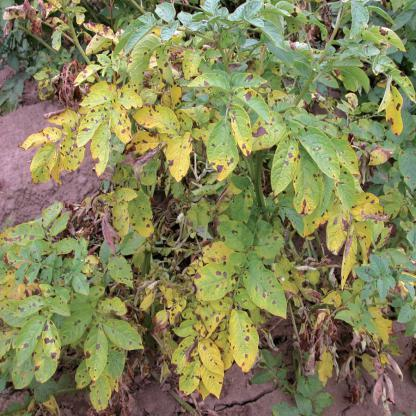Potato leaf late blight: (204, 117, 243, 187), (244, 268, 293, 318), (132, 102, 184, 139), (270, 130, 298, 196), (294, 154, 322, 218), (250, 108, 286, 150), (76, 103, 108, 150), (194, 264, 237, 296), (342, 223, 360, 294), (166, 136, 194, 178), (202, 238, 238, 268), (109, 100, 132, 146), (324, 215, 351, 253), (20, 126, 62, 150), (352, 190, 382, 222), (77, 88, 114, 107), (69, 64, 104, 84), (118, 88, 144, 108)
